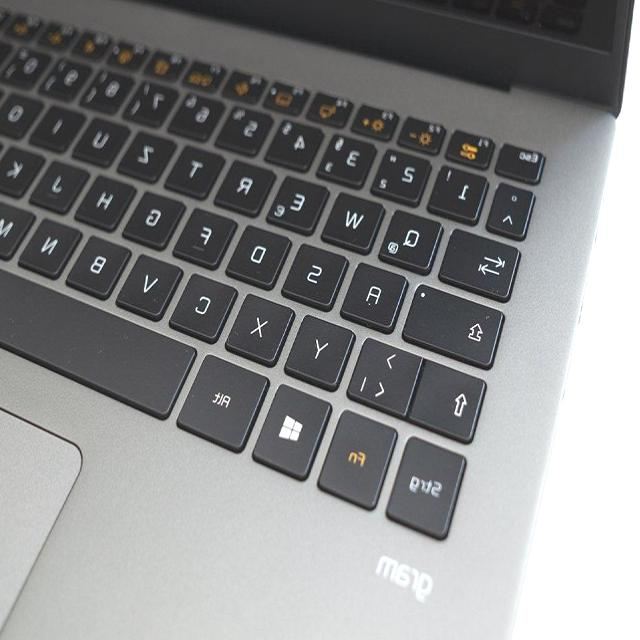0: (0, 44, 51, 92)
1: (429, 161, 491, 218)
2: (371, 145, 434, 200)
3: (318, 131, 380, 183)
4: (265, 118, 326, 166)
5: (216, 105, 276, 152)
6: (168, 91, 227, 137)
7: (126, 78, 181, 122)
8: (81, 68, 136, 112)
9: (40, 57, 95, 101)
a: (340, 258, 411, 327)
alt-left: (177, 349, 274, 449)
b: (66, 231, 135, 293)
c: (168, 270, 240, 337)
caret: (488, 180, 536, 235)
d: (224, 221, 294, 285)
e: (267, 173, 333, 229)
f: (173, 203, 240, 263)
g: (122, 187, 188, 245)
h: (75, 171, 139, 226)
i: (29, 105, 91, 153)
j: (30, 157, 90, 210)
k: (0, 142, 46, 194)
keyboard: (1, 0, 563, 564)
less: (346, 333, 426, 412)
m: (0, 198, 36, 255)
n: (19, 215, 85, 273)
o: (0, 90, 46, 138)
q: (378, 205, 446, 268)
r: (214, 157, 278, 211)
s: (281, 239, 353, 305)
shift-left: (410, 354, 489, 440)
shift-lock: (402, 279, 508, 365)
space: (3, 256, 201, 418)
strg-left: (386, 430, 468, 536)
t: (166, 142, 227, 194)
tab: (439, 225, 523, 296)
u: (72, 115, 134, 163)
v: (116, 250, 186, 313)
w: (321, 188, 387, 246)
x: (225, 291, 297, 359)
y: (284, 312, 357, 383)
z: (119, 129, 179, 178)
